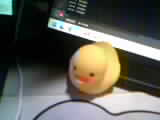duck: (63, 33, 118, 99)
